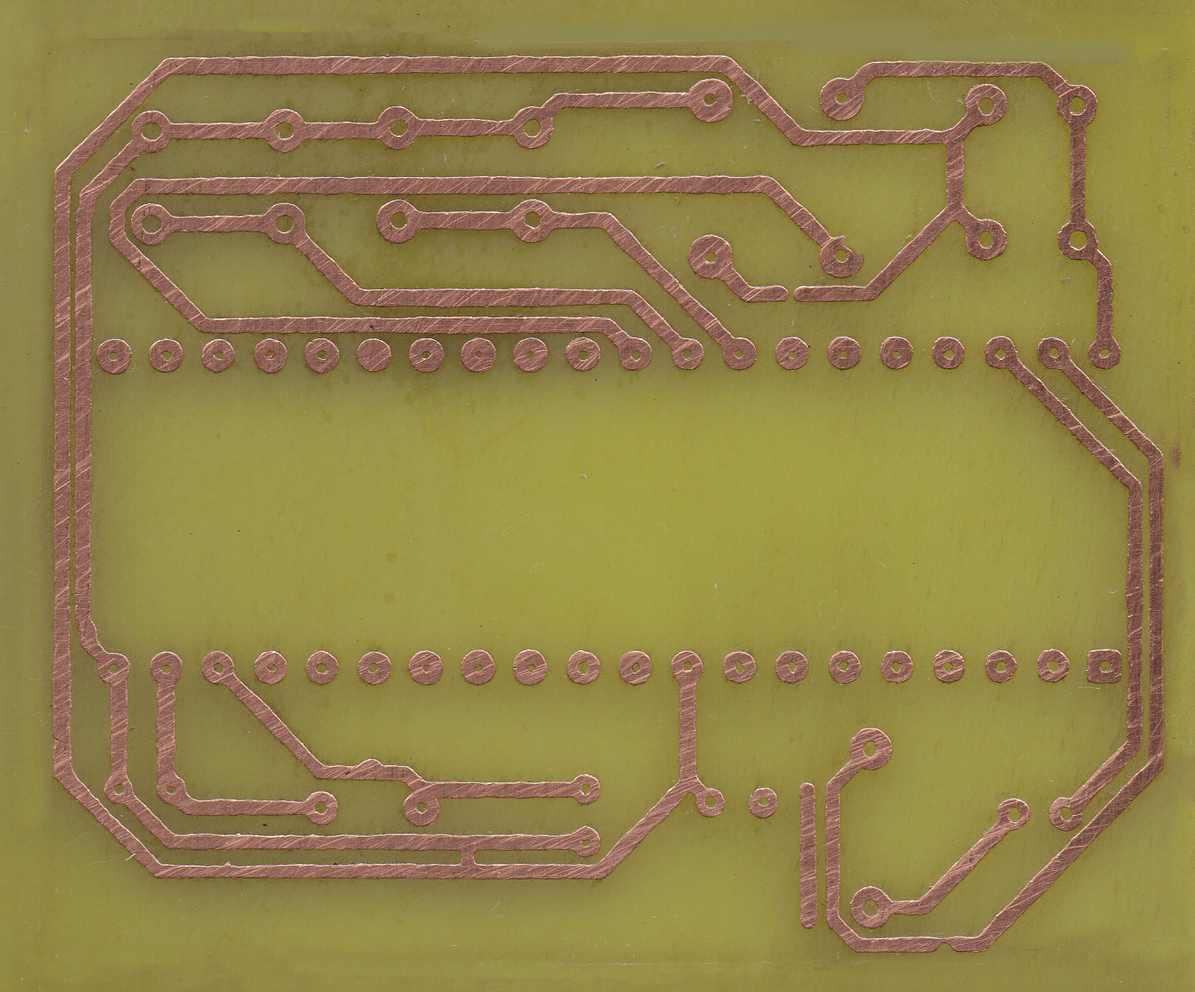missing_hole: (820, 234, 864, 280)
mouse_bite: (929, 936, 960, 955)
open_circuit: (775, 285, 807, 304)
short: (452, 837, 483, 877)
spur: (356, 757, 387, 782)
spurious_copper: (794, 778, 820, 936)
